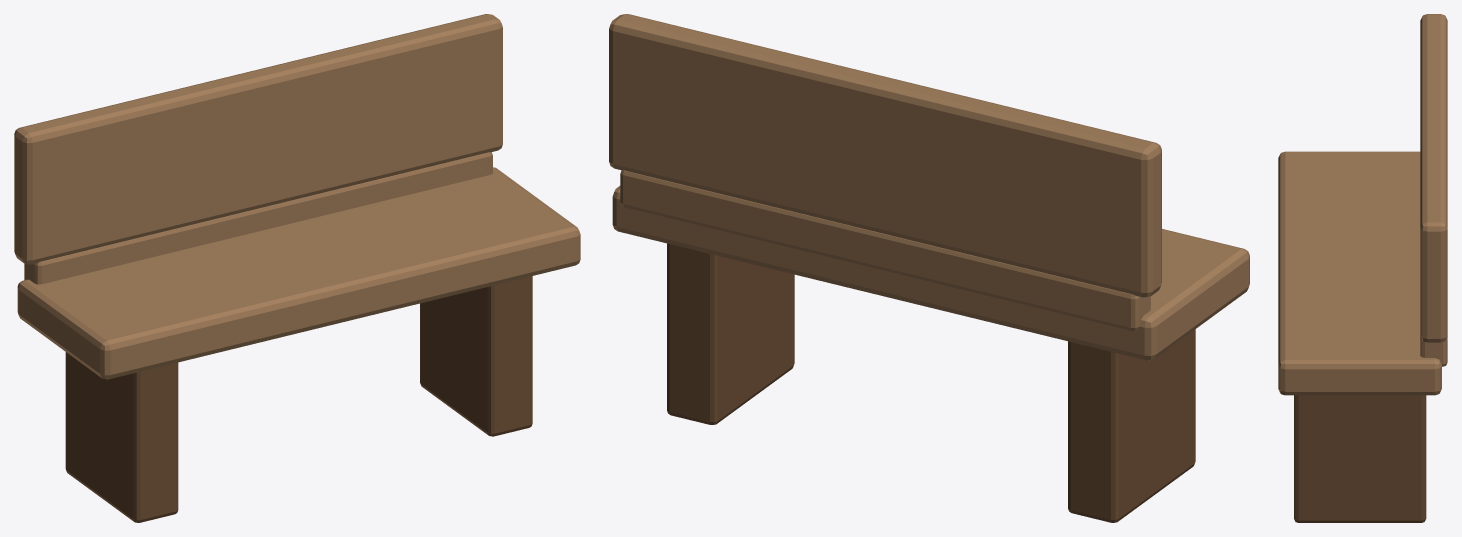
Rendered from prop-bench.glb.
The picture shows the model from 3 angles, left to right: view 1: azimuth 30°, elevation 25°; view 2: azimuth 150°, elevation 25°; view 3: azimuth 270°, elevation 25°; orthographic projection. The views are drawn at different scales.
Visible parts, largest first — view 1: Aged oak, Dark beams; view 2: Aged oak, Dark beams; view 3: Aged oak, Dark beams.
Part boxes in pixels (bbox=[...]): Aged oak: bbox=[14, 14, 580, 379]; Dark beams: bbox=[65, 276, 532, 522]; Aged oak: bbox=[609, 14, 1249, 360]; Dark beams: bbox=[667, 243, 1195, 522]; Aged oak: bbox=[1278, 14, 1447, 395]; Dark beams: bbox=[1294, 395, 1426, 522].
Size of the model in its own units: 1.3 by 0.9 by 0.435.
